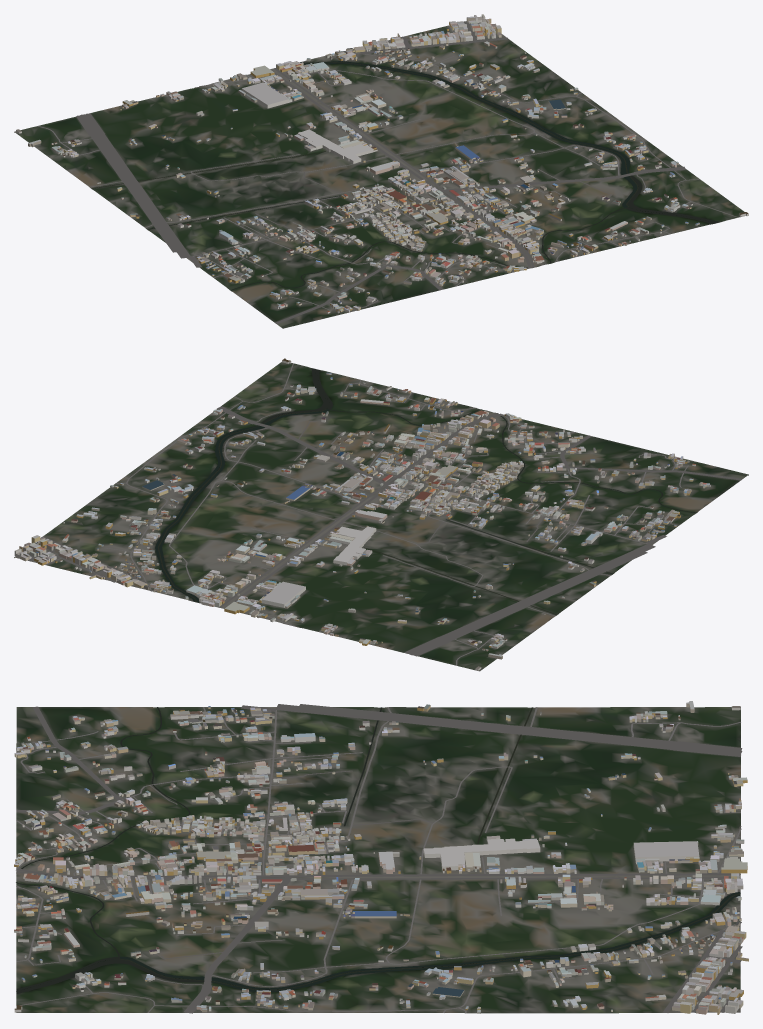
The picture shows the model from 3 angles, top to bottom: view 1: azimuth 30°, elevation 25°; view 2: azimuth 150°, elevation 25°; view 3: azimuth 270°, elevation 25°; orthographic projection. The views are drawn at different scales.
Visible parts, largest first — view 1: ground, buildings, roads, water; view 2: ground, buildings, roads, water; view 3: ground, buildings, roads, water.
Part boxes in pixels (x1,y1,x2,y2): ground: (14,21,745,328); buildings: (16,14,748,313); roads: (37,21,738,324); water: (91,61,718,290); ground: (14,362,748,671); buildings: (14,358,710,670); roads: (27,363,742,665); water: (155,368,696,627); ground: (16,707,740,1013); buildings: (14,701,748,1014); roads: (16,704,742,1013); water: (16,707,741,993).
Bounding box in the file's own units: 1423 × 22.86 × 1421.
